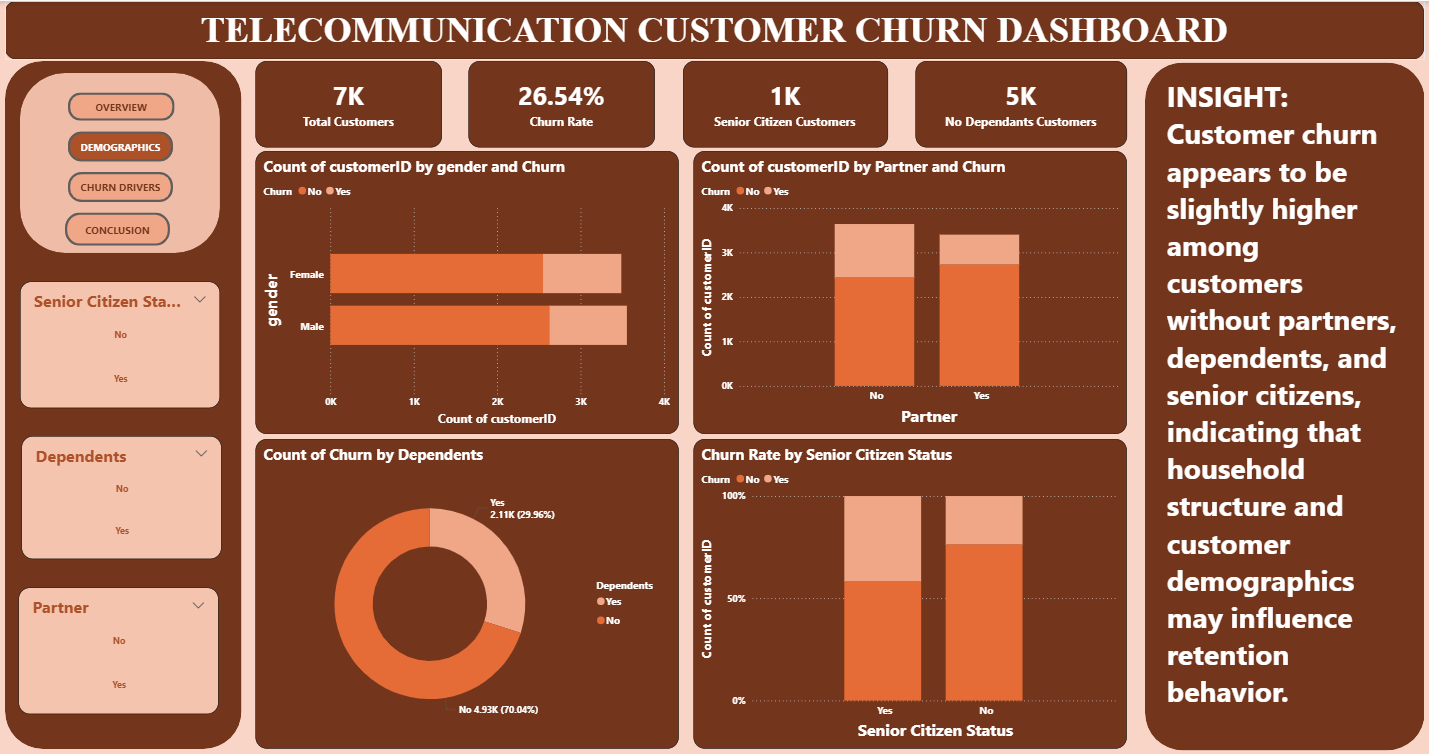

What the dashboard file says about the page in this screenshot:
{"tool":"powerbi","page":{"name":"Customer Demographics Analysis ","canvas":[1900,1000],"ordinal":1},"visuals":[{"type":"shape","box":[8.8,79.5,313.7,912.4],"z":0},{"type":"cardVisual","fields":{"Data":["Telco_Customer_Churn_Dataset  (2).Senior Citizen Custommers"]},"box":[908,79.5,271.7,114.9],"z":1000},{"type":"cardVisual","fields":{"Data":["Telco_Customer_Churn_Dataset  (2).Churn Rate %"]},"box":[623,79.5,247.4,114.9],"z":2000},{"type":"cardVisual","fields":{"Data":["Telco_Customer_Churn_Dataset  (2).No Dependants Customers"]},"box":[1215.1,79.5,280.6,114.9],"z":3000},{"type":"cardVisual","fields":{"Data":["Telco_Customer_Churn_Dataset  (2).Total Customers"]},"box":[340.2,79.5,247.4,114.9],"z":5000},{"type":"barChart","fields":{"Y":["CountNonNull(Telco_Customer_Churn_Dataset  (2).customerID)"],"Category":["Telco_Customer_Churn_Dataset  (2).gender"],"Series":["Telco_Customer_Churn_Dataset  (2).Churn"]},"box":[340.2,198.8,561.1,375.6],"z":6000},{"type":"columnChart","fields":{"Series":["Telco_Customer_Churn_Dataset  (2).Churn"],"Category":["Telco_Customer_Churn_Dataset  (2).Partner"],"Y":["CountNonNull(Telco_Customer_Churn_Dataset  (2).customerID)"]},"box":[921.2,198.8,574.4,375.6],"z":7000},{"type":"donutChart","fields":{"Category":["Telco_Customer_Churn_Dataset  (2).Dependents"],"Y":["CountNonNull(Telco_Customer_Churn_Dataset  (2).Churn)"]},"box":[340.2,581,561.1,410.9],"z":8000},{"type":"hundredPercentStackedColumnChart","title":"Churn Rate by Senior Citizen Status ","fields":{"Y":["CountNonNull(Telco_Customer_Churn_Dataset  (2).customerID)"],"Category":["Telco_Customer_Churn_Dataset  (2).Senior Citizen Status"],"Series":["Telco_Customer_Churn_Dataset  (2).Churn"]},"box":[921.2,581,574.4,410.9],"z":9000},{"type":"shape","box":[28.7,95,265.1,238.6],"z":11000},{"type":"actionButton","box":[90.6,227.5,139.2,39.8],"z":12000},{"type":"actionButton","box":[90.6,172.3,139.2,39.8],"z":13000},{"type":"actionButton","box":[90.6,121.5,141.4,37.6],"z":14000},{"type":"shape","box":[1519.9,81.7,371.1,912.4],"z":15000},{"type":"slicer","fields":{"Values":["Telco_Customer_Churn_Dataset  (2).Senior Citizen Status"]},"box":[28.7,371.1,265.1,167.9],"z":18000},{"type":"slicer","fields":{"Values":["Telco_Customer_Churn_Dataset  (2).Dependents"]},"box":[28.9,576.6,265.1,163.5],"z":19000},{"type":"slicer","fields":{"Values":["Telco_Customer_Churn_Dataset  (2).Partner"]},"box":[26.5,777.6,265.1,167.9],"z":20000},{"type":"textbox","box":[8.8,0,1882.2,77.3],"z":21000},{"type":"textbox","box":[1544.2,95,322.5,866],"z":22000},{"type":"actionButton","box":[88.4,280.6,139.2,44.2],"z":23000}]}

Visuals, with their boxes in screenshot pixels (x1, y1, x2, y2), scaled from the page's 1900x1000 canvas onto the 1429x754 screenshot:
shape: [x1=7, y1=60, x2=243, y2=748]
cardVisual - Telco_Customer_Churn_Dataset  (2).Senior Citizen Custommers: [x1=683, y1=60, x2=887, y2=147]
cardVisual - Telco_Customer_Churn_Dataset  (2).Churn Rate %: [x1=469, y1=60, x2=655, y2=147]
cardVisual - Telco_Customer_Churn_Dataset  (2).No Dependants Customers: [x1=914, y1=60, x2=1125, y2=147]
cardVisual - Telco_Customer_Churn_Dataset  (2).Total Customers: [x1=256, y1=60, x2=442, y2=147]
barChart - CountNonNull(Telco_Customer_Churn_Dataset  (2).customerID) x Telco_Customer_Churn_Dataset  (2).gender: [x1=256, y1=150, x2=678, y2=433]
columnChart - Telco_Customer_Churn_Dataset  (2).Churn x Telco_Customer_Churn_Dataset  (2).Partner: [x1=693, y1=150, x2=1125, y2=433]
donutChart - Telco_Customer_Churn_Dataset  (2).Dependents x CountNonNull(Telco_Customer_Churn_Dataset  (2).Churn): [x1=256, y1=438, x2=678, y2=748]
"Churn Rate by Senior Citizen Status " hundredPercentStackedColumnChart: [x1=693, y1=438, x2=1125, y2=748]
shape: [x1=22, y1=72, x2=221, y2=252]
actionButton: [x1=68, y1=172, x2=173, y2=202]
actionButton: [x1=68, y1=130, x2=173, y2=160]
actionButton: [x1=68, y1=92, x2=174, y2=120]
shape: [x1=1143, y1=62, x2=1422, y2=750]
slicer - Telco_Customer_Churn_Dataset  (2).Senior Citizen Status: [x1=22, y1=280, x2=221, y2=406]
slicer - Telco_Customer_Churn_Dataset  (2).Dependents: [x1=22, y1=435, x2=221, y2=558]
slicer - Telco_Customer_Churn_Dataset  (2).Partner: [x1=20, y1=586, x2=219, y2=713]
textbox: [x1=7, y1=0, x2=1422, y2=58]
textbox: [x1=1161, y1=72, x2=1404, y2=725]
actionButton: [x1=66, y1=212, x2=171, y2=245]
